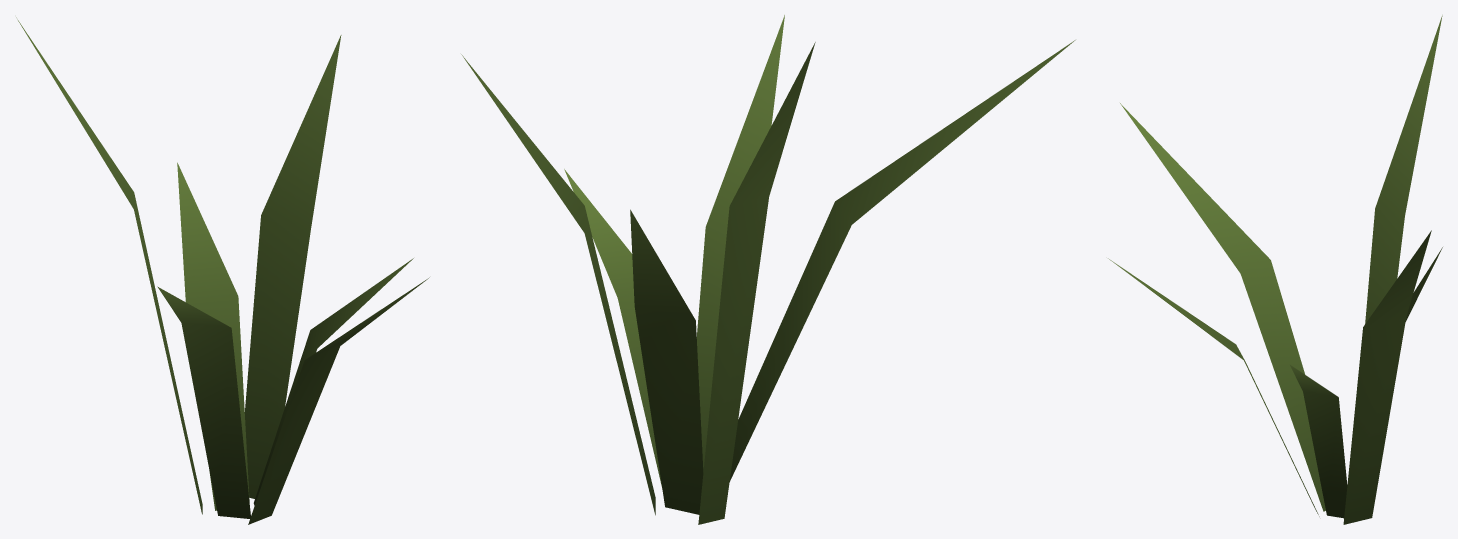
The model's file is MeadowGrass_2_lod1.glb.
3 renders of one model, left to right at view 1: azimuth 30°, elevation 25°; view 2: azimuth 150°, elevation 25°; view 3: azimuth 270°, elevation 25°, orthographic. The views are drawn at different scales.
Parts seen in each view (by area): view 1: MeadowGrass_2_lod1; view 2: MeadowGrass_2_lod1; view 3: MeadowGrass_2_lod1.
Boxes of the visible parts, <box> form: MeadowGrass_2_lod1: <box>16,17,429,524</box>; MeadowGrass_2_lod1: <box>461,15,1075,524</box>; MeadowGrass_2_lod1: <box>1108,15,1442,524</box>.
Bounding box in the file's own units: 0.3167 × 0.4102 × 0.2941.
